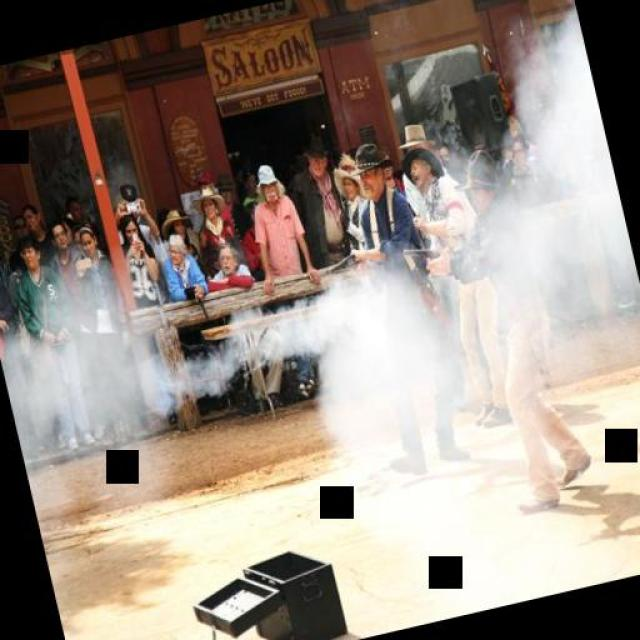gun: (318, 245, 372, 289), (402, 235, 448, 286)
